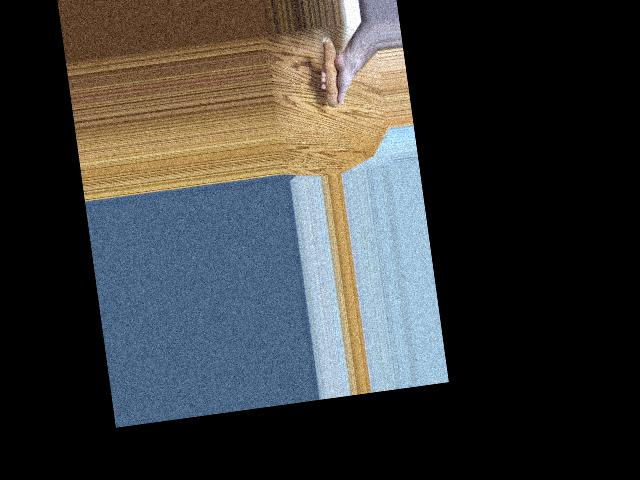sweet_potato: (315, 34, 348, 114)
